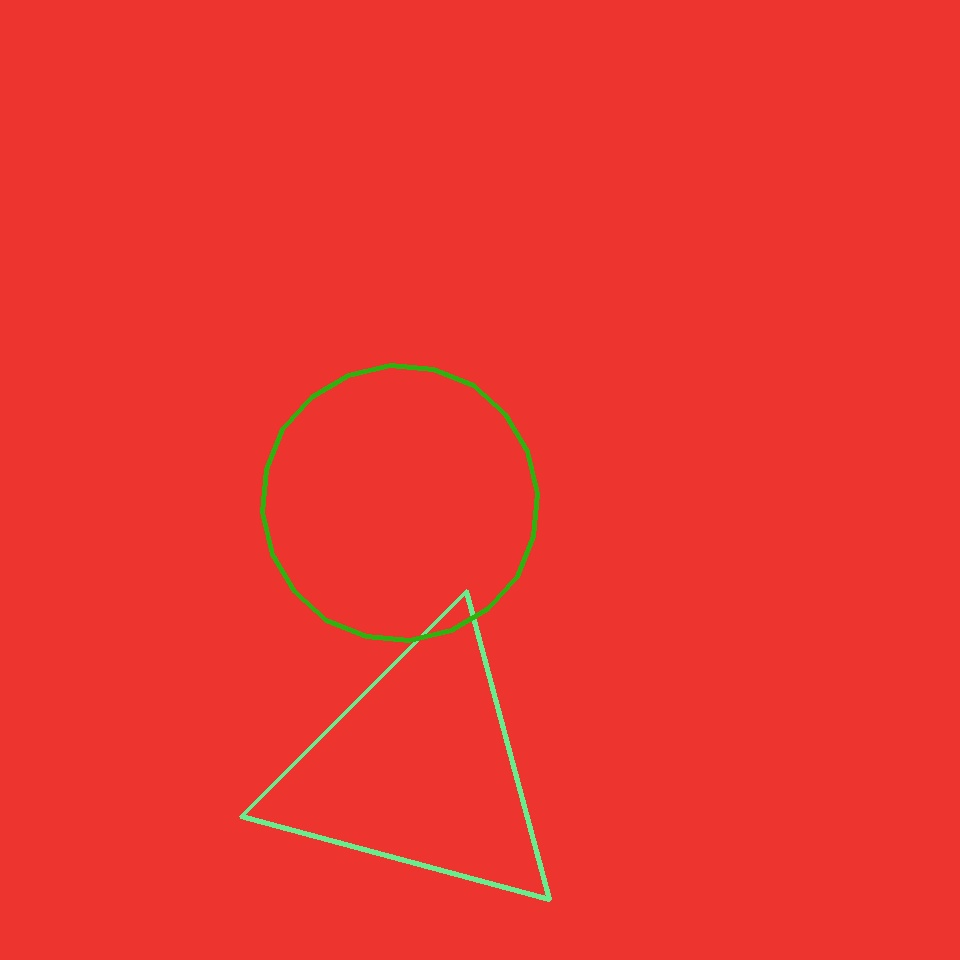circle: (265, 615, 573, 923)
triangle: (262, 366, 538, 640)
